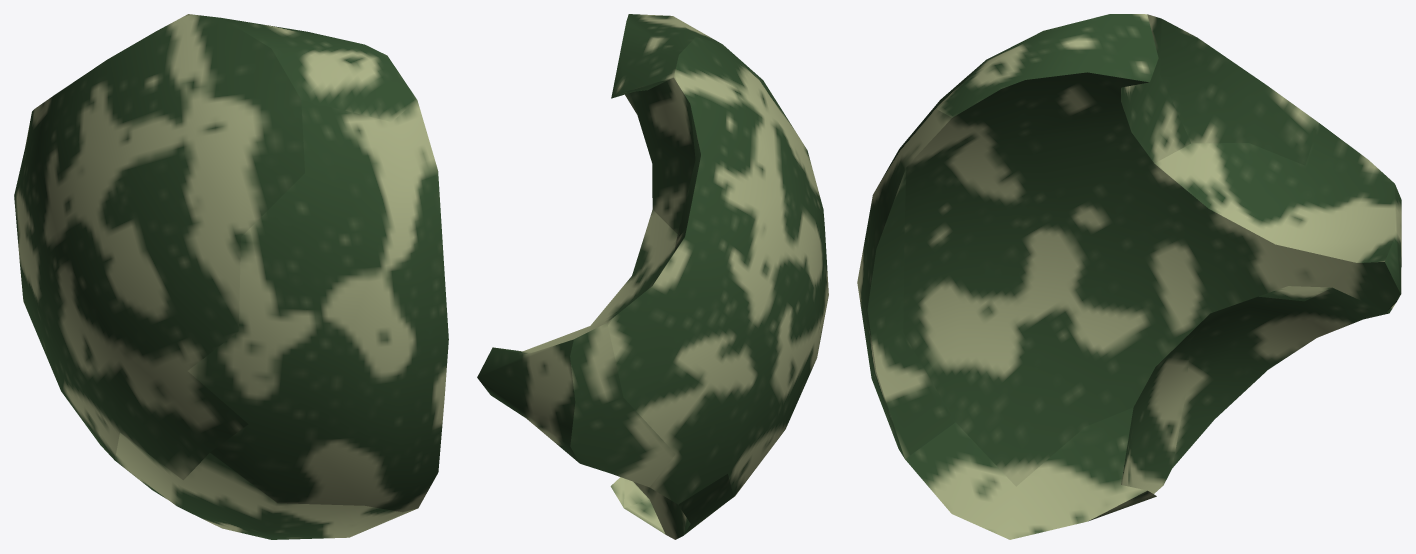
The model's file is link_body_14_composite.obj.
3 views of the same model, side by side, from view 1: azimuth 30°, elevation 25°; view 2: azimuth 150°, elevation 25°; view 3: azimuth 270°, elevation 25° (orthographic). The views are drawn at different scales.
Parts seen in each view (by area): view 1: link_body_14; view 2: link_body_14; view 3: link_body_14.
Boxes of the visible parts, bbox=[...] form: link_body_14: bbox=[14, 14, 448, 539]; link_body_14: bbox=[477, 14, 828, 539]; link_body_14: bbox=[857, 14, 1401, 539].
Size of the model in its own units: 7.43 by 14.37 by 14.32.
1 material, 1 textured.
